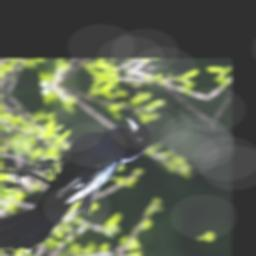Crow: (0, 112, 170, 256)
